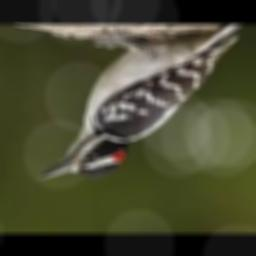Woodpecker: (39, 25, 244, 181)
